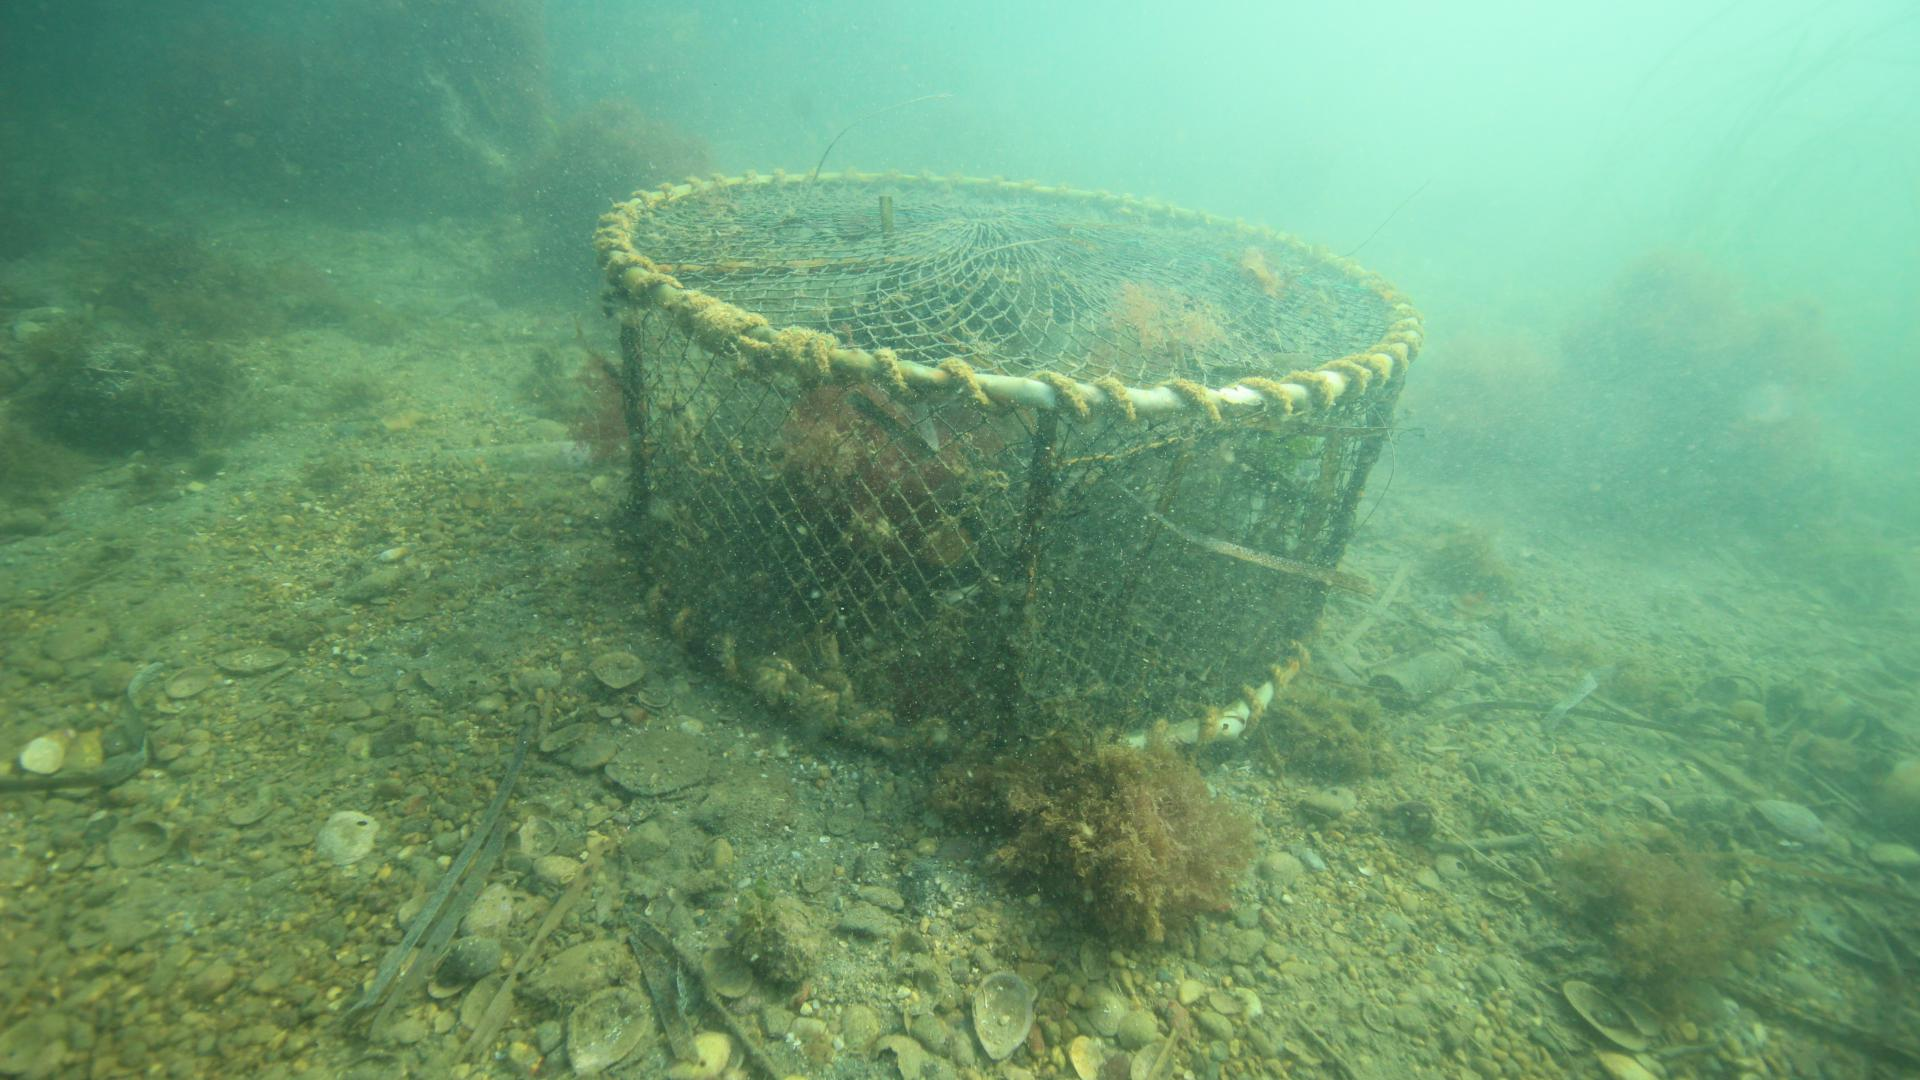circular fish trap: (593, 167, 1422, 752)
